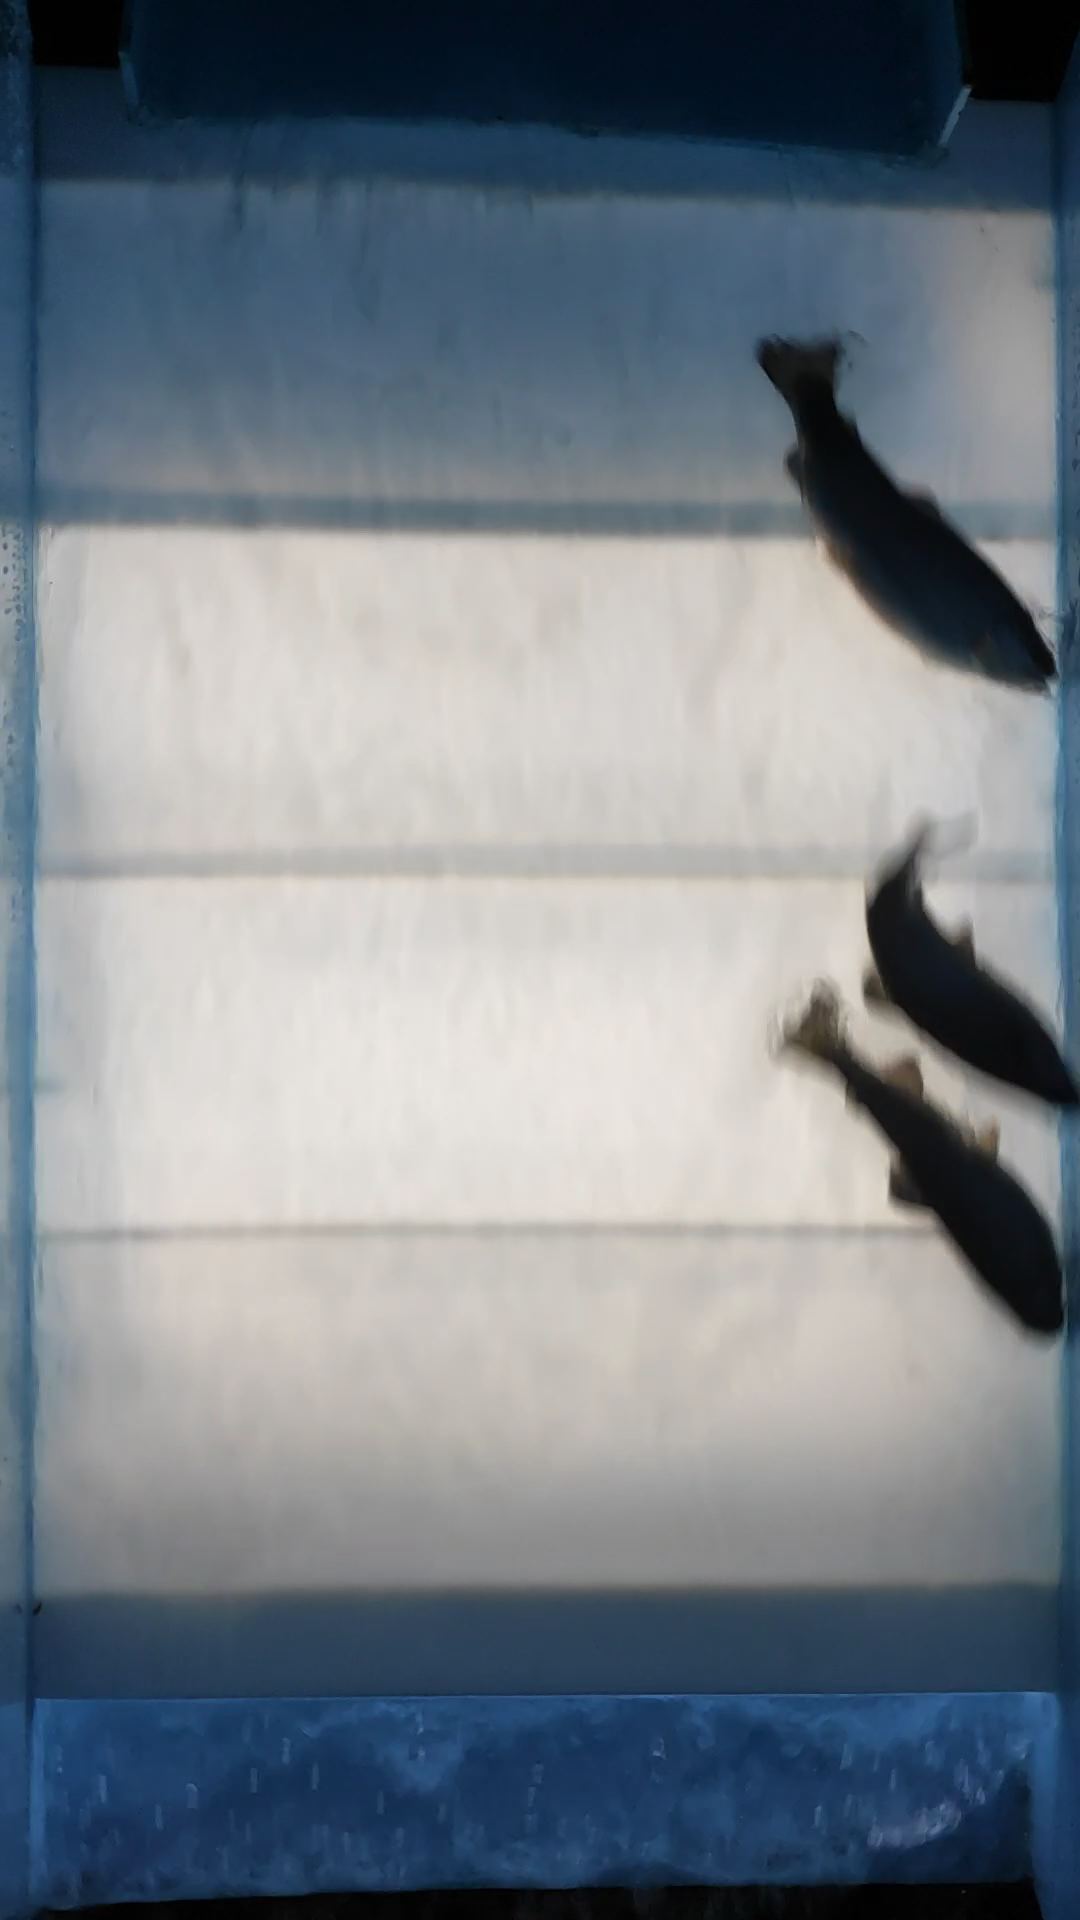fish: (748, 324, 1066, 712), (769, 977, 1069, 1353), (857, 818, 1080, 1126)
